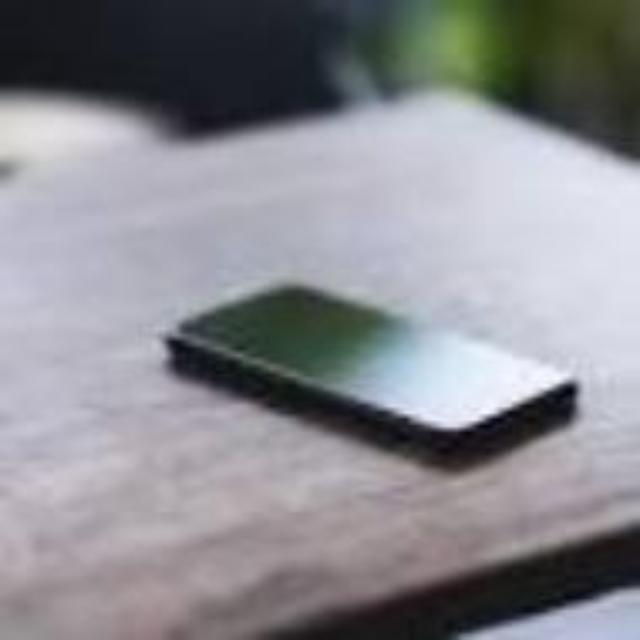phone: (169, 249, 595, 499)
